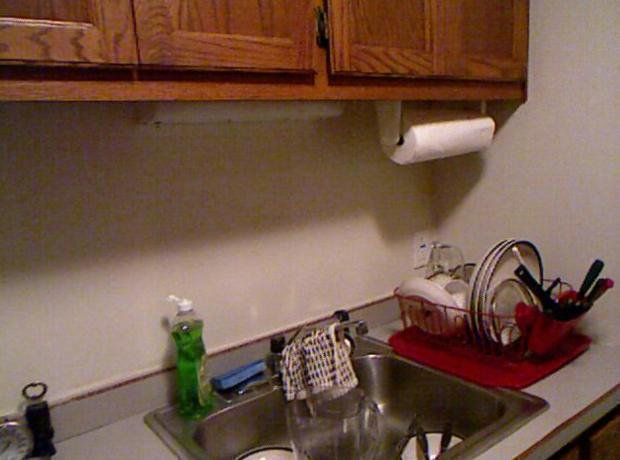Electrodomestico: (145, 320, 550, 457)
